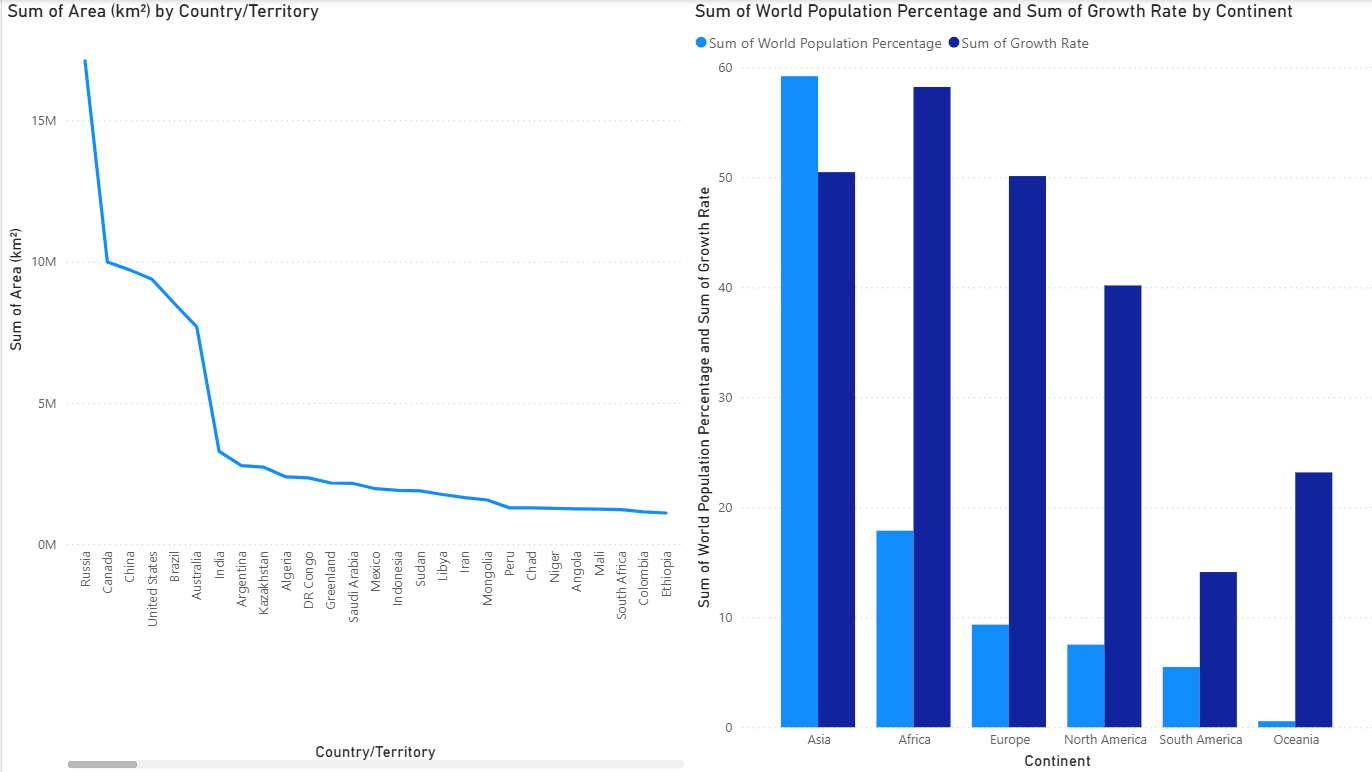

The page's visual inventory and layout, read from the dashboard file:
{"tool":"powerbi","page":{"name":"Page 1","canvas":[1280,720],"ordinal":0},"visuals":[{"type":"clusteredColumnChart","fields":{"Y":["Sum(world_population.World Population Percentage)","Sum(world_population.Growth Rate)"],"Category":["world_population.Continent"]},"box":[594.3,0,686,720.2],"z":0},{"type":"lineChart","fields":{"Category":["world_population.Country/Territory"],"Y":["Sum(world_population.Area (km²))"]},"box":[0,0,686,720],"z":1000}]}

Visuals, with their boxes in screenshot pixels (x1, y1, x2, y2), scaled from the page's 1280x720 canvas onto the 1372x772 screenshot:
clusteredColumnChart - Sum(world_population.World Population Percentage) x Sum(world_population.Growth Rate): BBox(637, 0, 1371, 771)
lineChart - world_population.Country/Territory x Sum(world_population.Area (km²)): BBox(0, 0, 735, 771)
